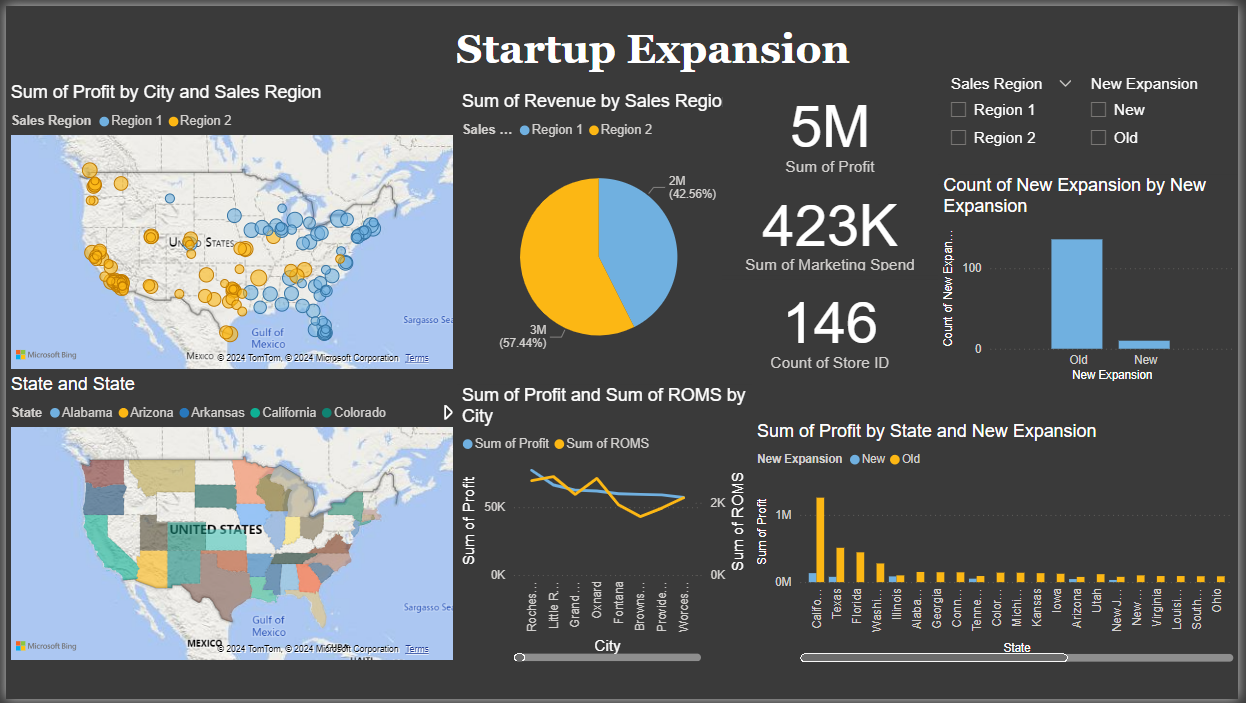

The page's visual inventory and layout, read from the dashboard file:
{"tool":"powerbi","page":{"name":"Overview","canvas":[1280,720],"ordinal":0},"visuals":[{"type":"filledMap","fields":{"Category":["startup-expansion-md.State"],"Series":["startup-expansion-md.State"]},"box":[0,382.4,469.3,302.8],"z":0},{"type":"textbox","box":[426.8,15.1,489.9,67.2],"z":1000},{"type":"map","fields":{"Category":["startup-expansion-md.City"],"Size":["Sum(startup-expansion-md.Profit)"],"Series":["startup-expansion-md.Sales Region"]},"box":[0,79.6,469.3,302.8],"z":2000},{"type":"columnChart","fields":{"Y":["CountNonNull(startup-expansion-md.New Expansion)"],"Category":["startup-expansion-md.New Expansion"]},"box":[968.8,174.9,311.3,219.6],"z":3000},{"type":"pieChart","fields":{"Y":["Sum(startup-expansion-md.Revenue)"],"Series":["startup-expansion-md.Sales Region"]},"box":[469.3,88.1,294.4,294.4],"z":4000},{"type":"card","fields":{"Values":["Sum(startup-expansion-md.Profit)"]},"box":[744.4,79.6,224.4,101.3],"z":5000},{"type":"card","fields":{"Values":["Sum(startup-expansion-md.Marketing Spend)"]},"box":[744.4,184.6,224.4,95.3],"z":6000},{"type":"card","fields":{"Values":["CountNonNull(startup-expansion-md.Store ID)"]},"box":[744.4,284.7,224.4,97.7],"z":7000},{"type":"clusteredColumnChart","fields":{"Category":["startup-expansion-md.State"],"Series":["startup-expansion-md.New Expansion"],"Y":["Sum(startup-expansion-md.Profit)"]},"box":[775.3,430.9,505,255.2],"z":8000},{"type":"slicer","fields":{"Values":["startup-expansion-md.Sales Region"]},"box":[968.8,67.6,150.8,97.7],"z":9000},{"type":"slicer","fields":{"Values":["startup-expansion-md.New Expansion"]},"box":[1114.8,67.6,165.3,97.7],"z":9001},{"type":"lineChart","fields":{"Category":["startup-expansion-md.City"],"Y":["Sum(startup-expansion-md.Profit)"],"Y2":["Sum(startup-expansion-md.ROMS)"]},"box":[469.3,393.8,306,292.3],"z":9002}]}

Visuals, with their boxes in screenshot pixels (x1, y1, x2, y2), scaled from the page's 1280x720 canvas onto the 1246x703 screenshot:
filledMap - startup-expansion-md.State x startup-expansion-md.State: region(0, 373, 457, 669)
textbox: region(415, 15, 892, 80)
map - startup-expansion-md.City x Sum(startup-expansion-md.Profit): region(0, 78, 457, 373)
columnChart - CountNonNull(startup-expansion-md.New Expansion) x startup-expansion-md.New Expansion: region(943, 171, 1245, 385)
pieChart - Sum(startup-expansion-md.Revenue) x startup-expansion-md.Sales Region: region(457, 86, 743, 373)
card - Sum(startup-expansion-md.Profit): region(725, 78, 943, 177)
card - Sum(startup-expansion-md.Marketing Spend): region(725, 180, 943, 273)
card - CountNonNull(startup-expansion-md.Store ID): region(725, 278, 943, 373)
clusteredColumnChart - startup-expansion-md.State x startup-expansion-md.New Expansion: region(755, 421, 1245, 670)
slicer - startup-expansion-md.Sales Region: region(943, 66, 1090, 161)
slicer - startup-expansion-md.New Expansion: region(1085, 66, 1245, 161)
lineChart - startup-expansion-md.City x Sum(startup-expansion-md.Profit): region(457, 385, 755, 670)
